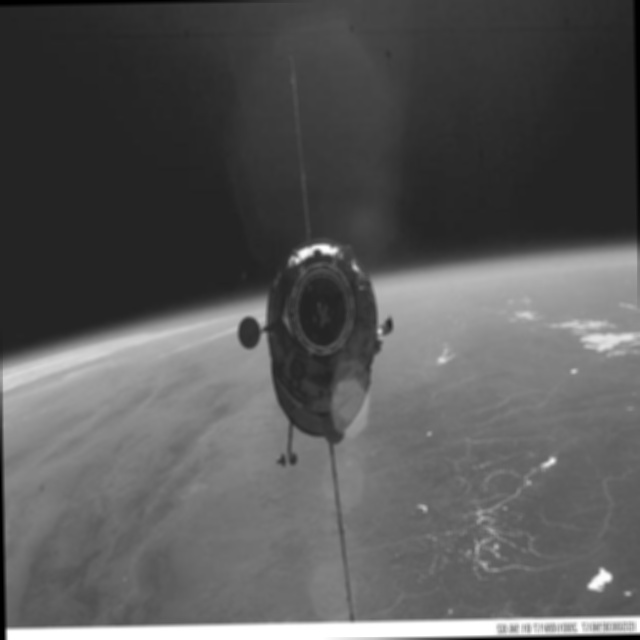medium_debris: (239, 61, 399, 637)
